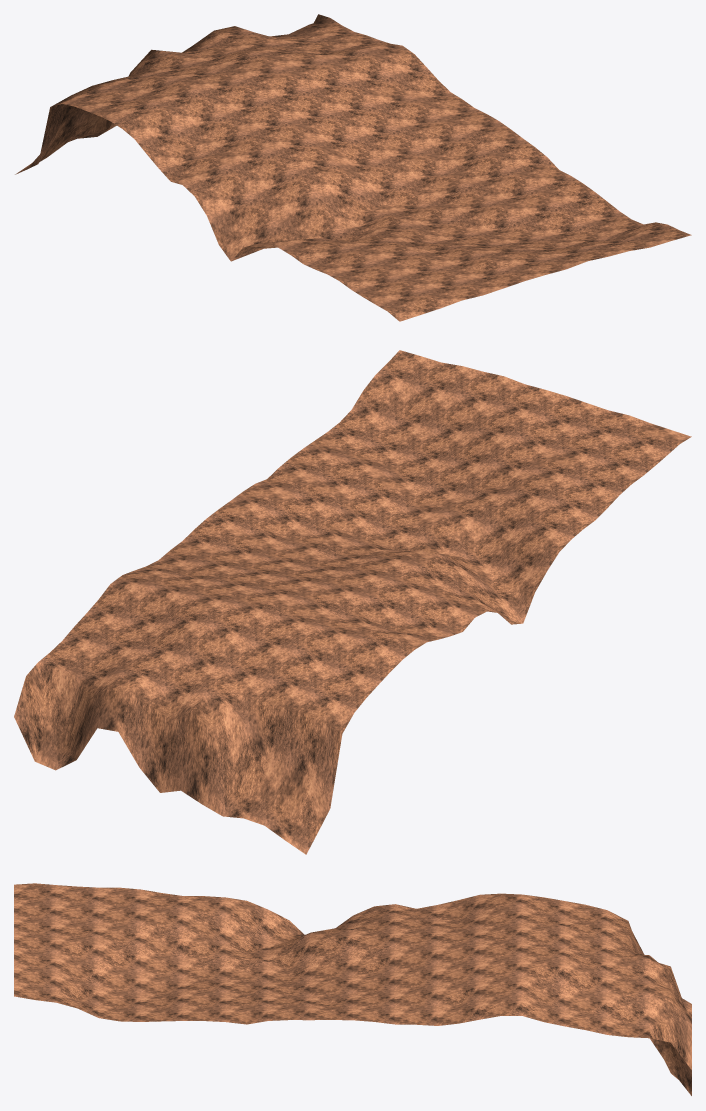
Rendered from terrain_00_23.dae.
3 views of the same model, one above another, from view 1: azimuth 30°, elevation 25°; view 2: azimuth 150°, elevation 25°; view 3: azimuth 270°, elevation 25° (orthographic). The views are drawn at different scales.
Visible parts, largest first — view 1: terrain_00_23-node; view 2: terrain_00_23-node; view 3: terrain_00_23-node.
Part boxes in pixels (x1=…): terrain_00_23-node: x1=15, y1=14, x2=691, y2=321; terrain_00_23-node: x1=14, y1=350, x2=691, y2=854; terrain_00_23-node: x1=14, y1=883, x2=691, y2=1095.
Bounding box in the file's own units: 56 × 128 × 27.68.
1 material, 1 textured.
